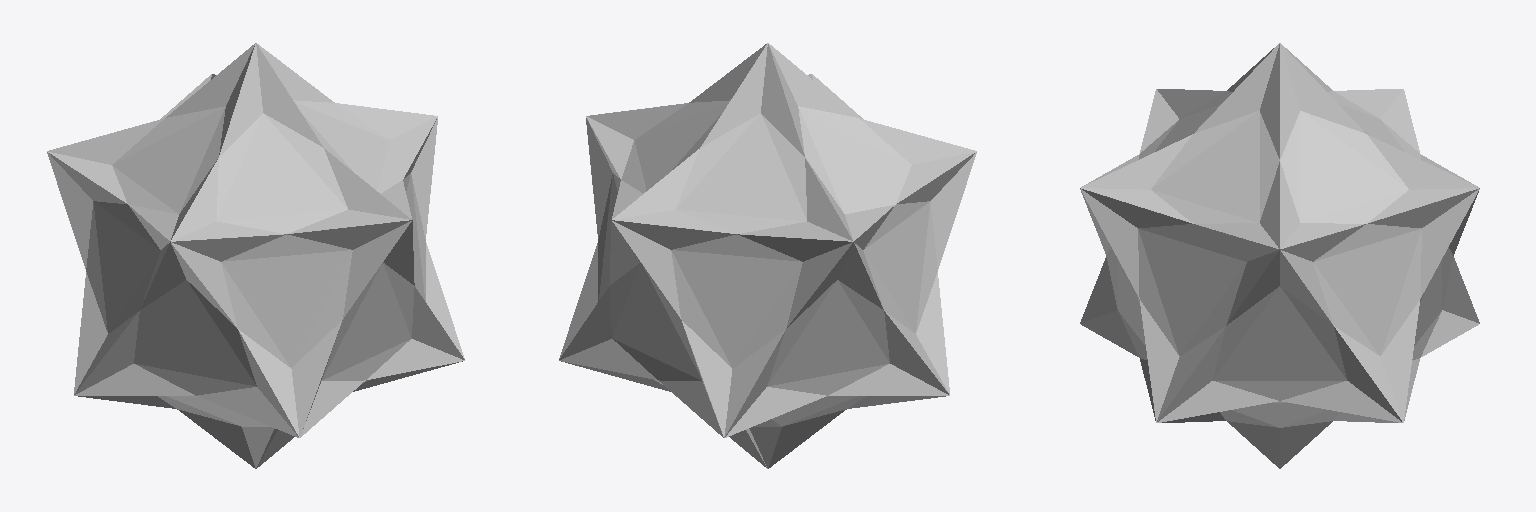
The model's file is epol_2.obj.
The picture shows the model from 3 angles: view 1: azimuth 30°, elevation 25°; view 2: azimuth 150°, elevation 25°; view 3: azimuth 270°, elevation 25°; orthographic projection.
Size of the model in its own units: 4.01 by 4.48 by 3.81.